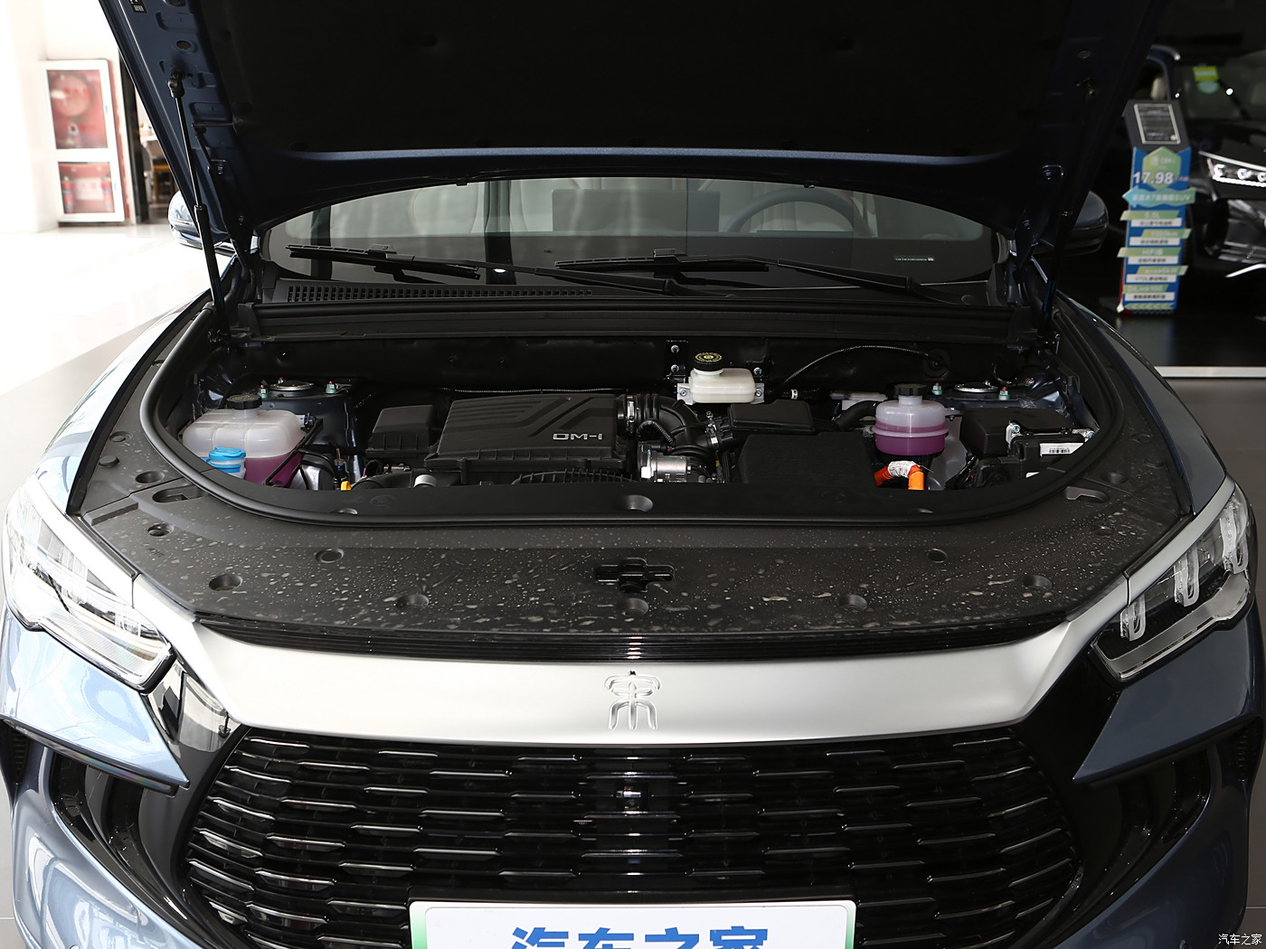BYD Song: (606, 670, 659, 729)
